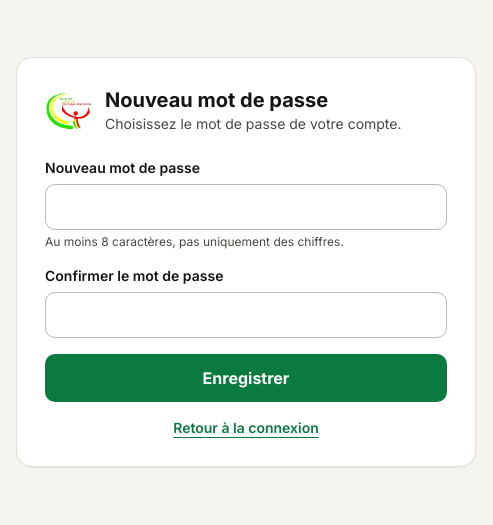
Nouveau mot de passe › lien invalide : message et lien vers une nouvelle demande
Type "Nouveau-UCCB-2027!" into the password field labelled "Nouveau mot de passe".
click(246, 207); type("Nouveau-UCCB-2027!")  # box [45,184,447,230]
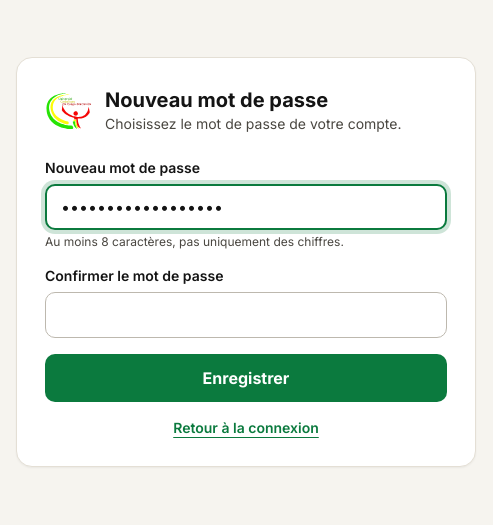
Type "Nouveau-UCCB-2027!" into the password field labelled "Confirmer le mot de passe".
click(246, 315); type("Nouveau-UCCB-2027!")  # box [45,292,447,338]
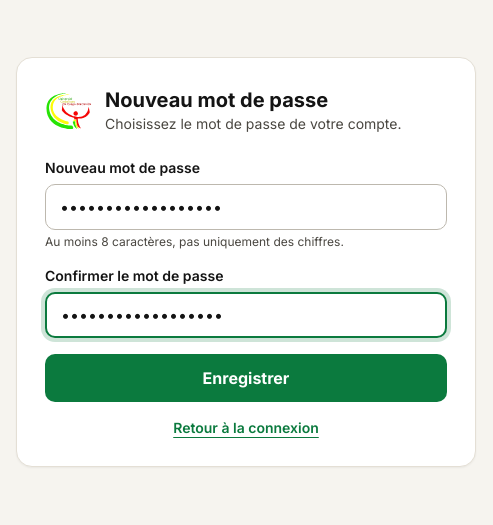
Click the button "Enregistrer".
click(246, 378)  # box [45,354,447,402]
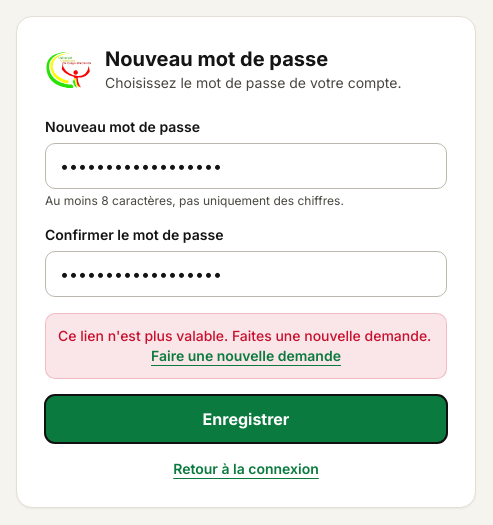
Now the message shows "Ce lien n'est plus valable.", box [58,327,431,344]
